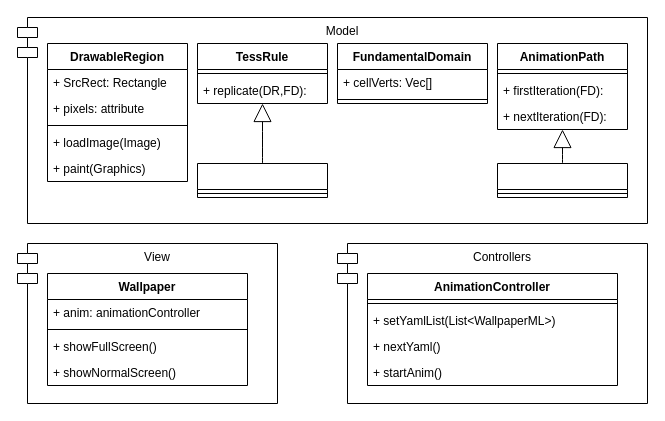
Some shapes in this 665 by 421 pixel diagram are drawn without their labels. The shapes that lost their labels are listed below. From the top down, each one's centre as x and y in pixels, then its label:
(262,180): HexRule
(562,180): BounceAnimation
